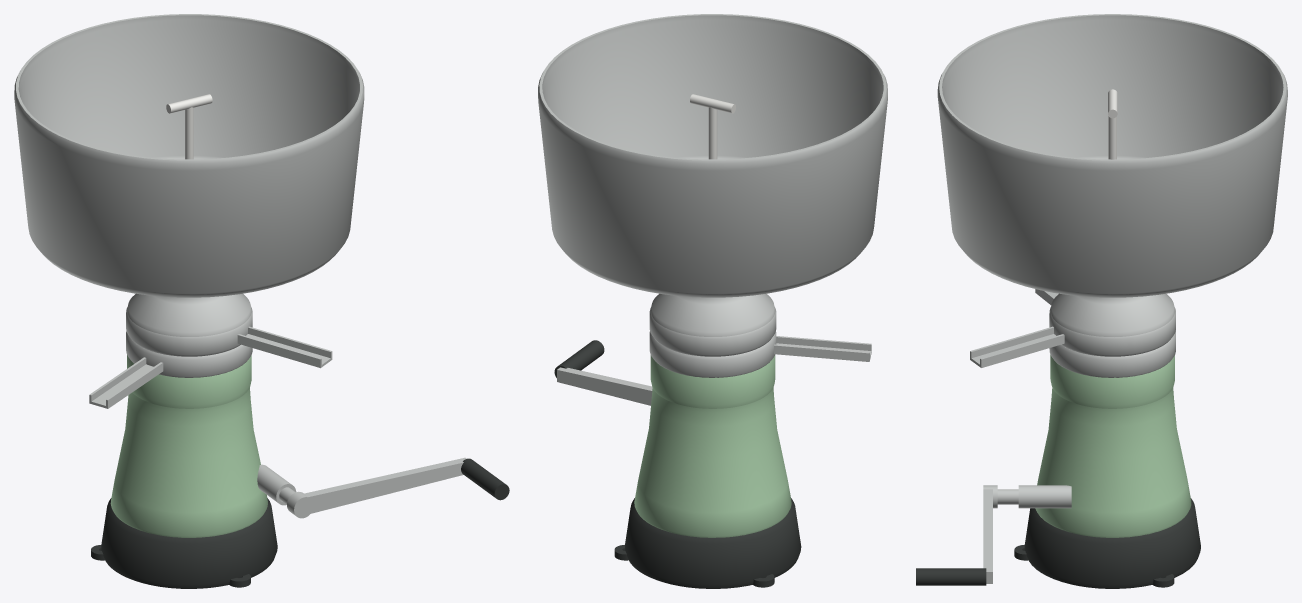
3 renders of one model, left to right at view 1: azimuth 30°, elevation 25°; view 2: azimuth 150°, elevation 25°; view 3: azimuth 270°, elevation 25°, orthographic.
Visible parts, largest first — view 1: hollow bowl, body shell, foot closed inferred underside, neck, upper casing collar, crank arm, lower collector, upper collector, upper open outlet, lower open outlet, hand grip, fixed drive collar; view 2: hollow bowl, body shell, foot closed inferred underside, neck, upper casing collar, lower collector, upper collector, lower open outlet, crank arm, hand grip, upright tap stem, T tap handle; view 3: hollow bowl, body shell, foot closed inferred underside, neck, upper casing collar, lower collector, upper collector, upper open outlet, fixed drive collar, hand grip, crank arm.
Part boxes in pixels (x1,y1,x2,y2): hollow bowl: [14, 14, 364, 297]; body shell: [110, 387, 267, 537]; foot closed inferred underside: [101, 498, 277, 588]; neck: [127, 293, 251, 336]; upper casing collar: [127, 355, 251, 408]; crank arm: [303, 457, 466, 513]; lower collector: [126, 331, 252, 377]; upper collector: [126, 307, 252, 356]; upper open outlet: [237, 326, 332, 368]; lower open outlet: [89, 357, 163, 408]; hand grip: [461, 458, 509, 500]; fixed drive collar: [257, 464, 296, 505]; hollow bowl: [538, 14, 887, 297]; body shell: [634, 387, 791, 537]; foot closed inferred underside: [625, 498, 801, 588]; neck: [650, 293, 775, 336]; upper casing collar: [650, 355, 775, 408]; lower collector: [649, 331, 776, 377]; upper collector: [649, 308, 776, 356]; lower open outlet: [774, 336, 871, 361]; crank arm: [557, 367, 652, 405]; hand grip: [554, 340, 604, 377]; upright tap stem: [708, 107, 717, 159]; T tap handle: [690, 94, 735, 113]; hollow bowl: [937, 14, 1287, 297]; body shell: [1035, 388, 1191, 537]; foot closed inferred underside: [1024, 498, 1200, 588]; neck: [1050, 293, 1174, 336]; upper casing collar: [1050, 354, 1174, 408]; lower collector: [1049, 331, 1175, 377]; upper collector: [1049, 307, 1175, 356]; upper open outlet: [970, 326, 1064, 367]; fixed drive collar: [1018, 485, 1071, 508]; hand grip: [916, 568, 986, 585]; crank arm: [983, 489, 992, 583].
Bounding box in the file's own units: 0.4495 × 0.535 × 0.3875.
